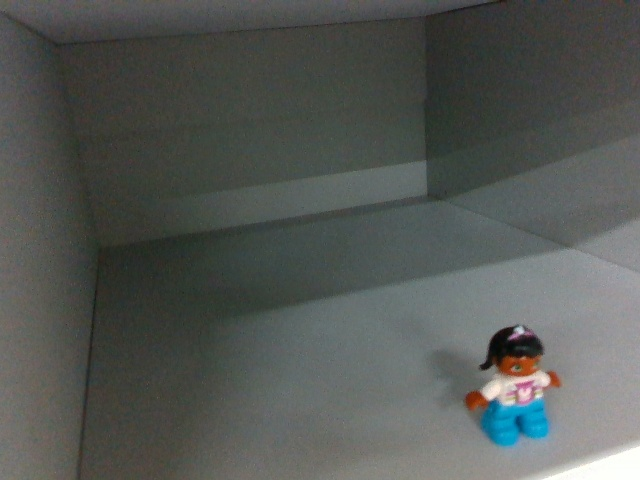people: (467, 320, 563, 445)
